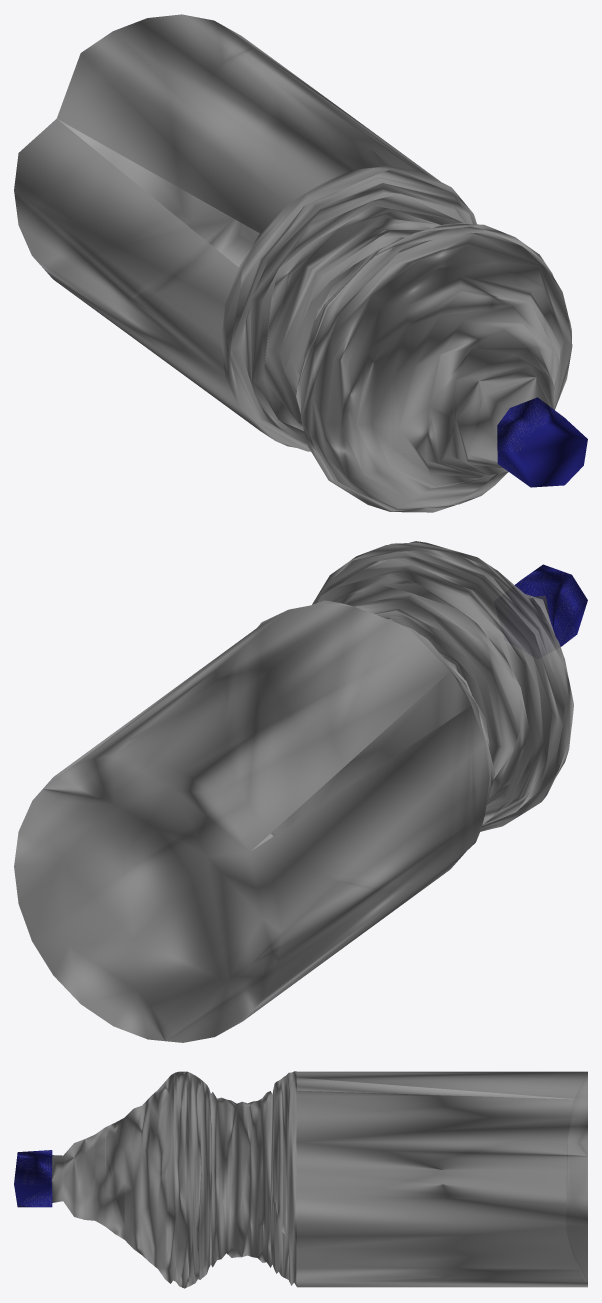
The model's file is model_align.obj.
3 renders of one model, top to bottom at view 1: azimuth 30°, elevation 25°; view 2: azimuth 150°, elevation 25°; view 3: azimuth 270°, elevation 25°, orthographic. The views are drawn at different scales.
Size of the model in its own units: 0.0998 by 0.1003 by 0.2642.
